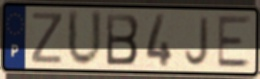4: (144, 11, 175, 69)
B: (105, 12, 141, 67)
E: (215, 14, 253, 69)
J: (183, 15, 211, 68)
U: (66, 8, 104, 70)
Z: (30, 11, 65, 66)
